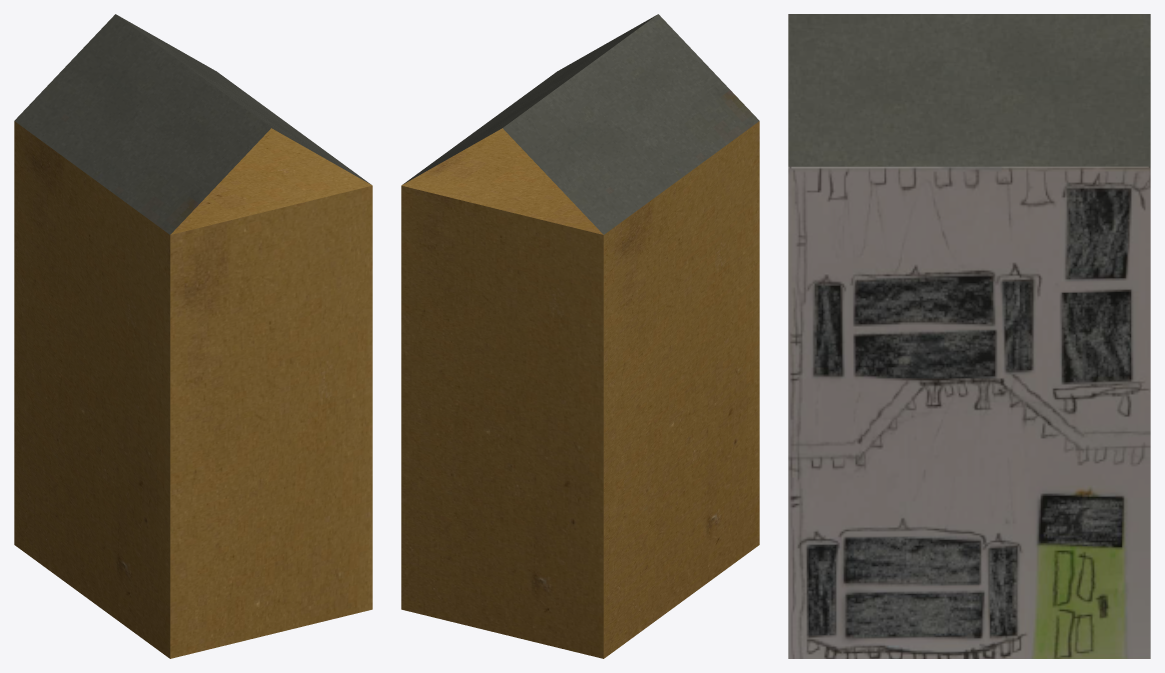
3 renders of one model, left to right at view 1: azimuth 30°, elevation 25°; view 2: azimuth 150°, elevation 25°; view 3: azimuth 270°, elevation 25°, orthographic. The views are drawn at different scales.
Parts seen in each view (by area): view 1: Cube; view 2: Cube; view 3: Cube.
Boxes of the visible parts, x1=… form: Cube: x1=14, y1=14, x2=372, y2=658; Cube: x1=401, y1=14, x2=759, y2=658; Cube: x1=788, y1=14, x2=1150, y2=658.
Size of the model in its own units: 7.5 by 17.91 by 10.
Materials: 1 (1 with a texture image).
